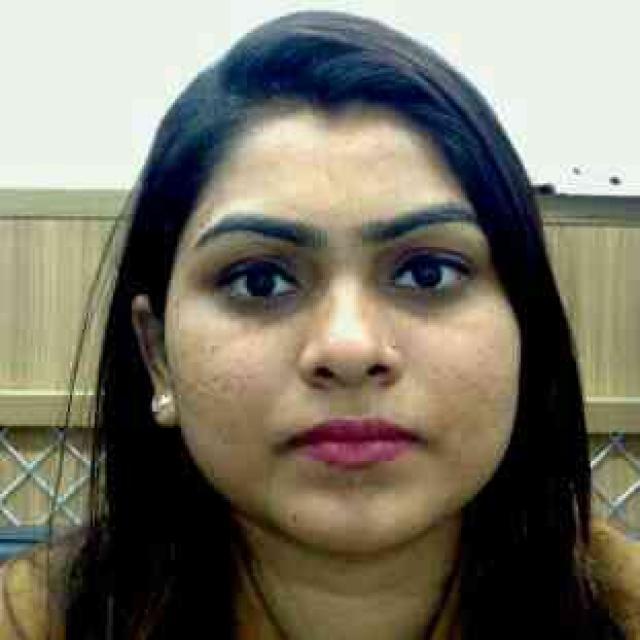puffy_eyes: (225, 292, 311, 320), (381, 285, 470, 312)
